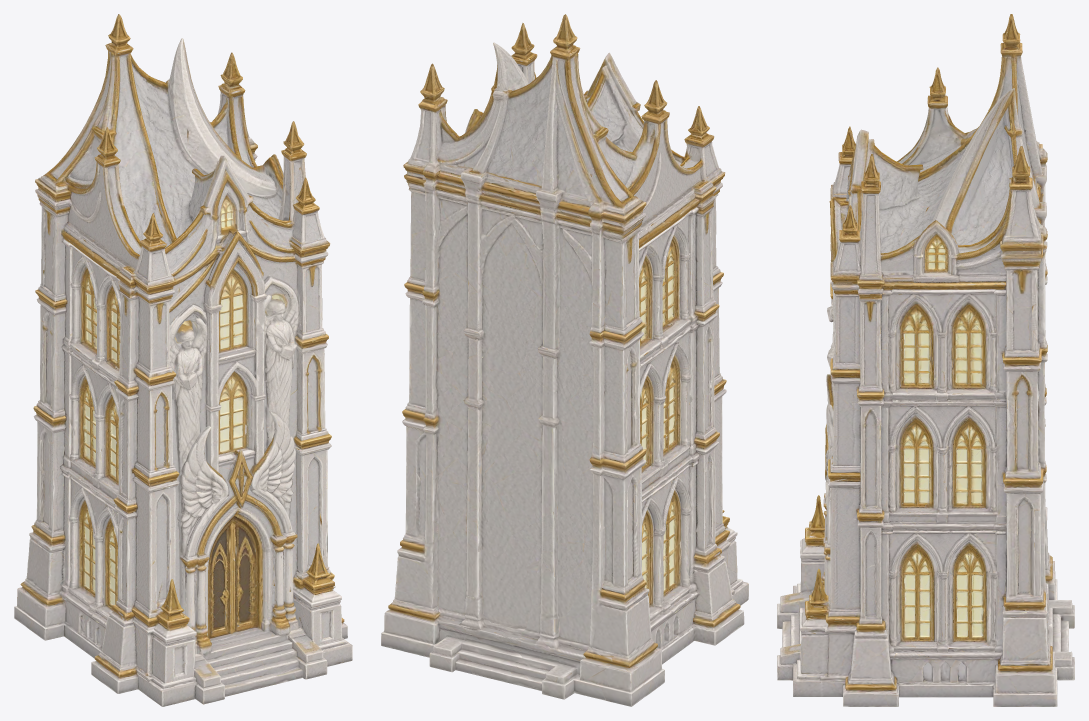
File: sq-angel2.glb
3 views of the same model, side by side, from view 1: azimuth 30°, elevation 25°; view 2: azimuth 150°, elevation 25°; view 3: azimuth 270°, elevation 25° (orthographic). The views are drawn at different scales.
Parts seen in each view (by area): view 1: lod0; view 2: lod0; view 3: lod0.
Boxes of the visible parts, <box> form: lod0: <box>14,14,352,706</box>; lod0: <box>381,14,748,706</box>; lod0: <box>777,14,1074,706</box>.
Size of what is drawn, in the model's own units: 0.764 by 1.9 by 0.8283.
1 material, 1 textured.
